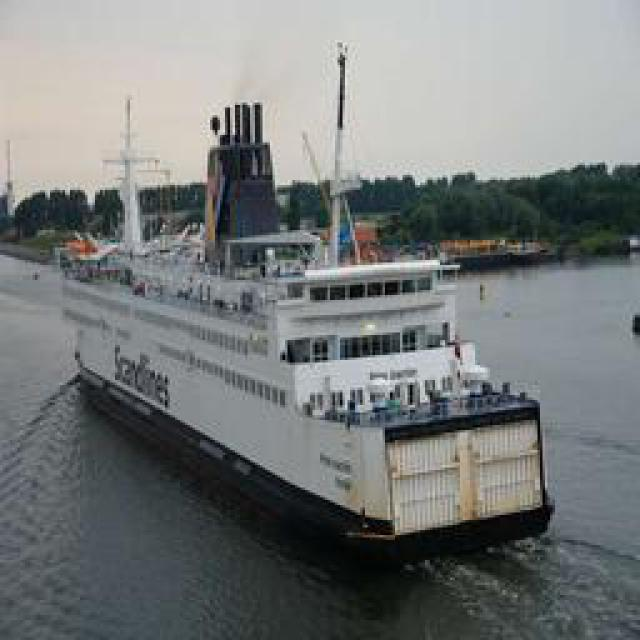Ship: (61, 89, 561, 562)
